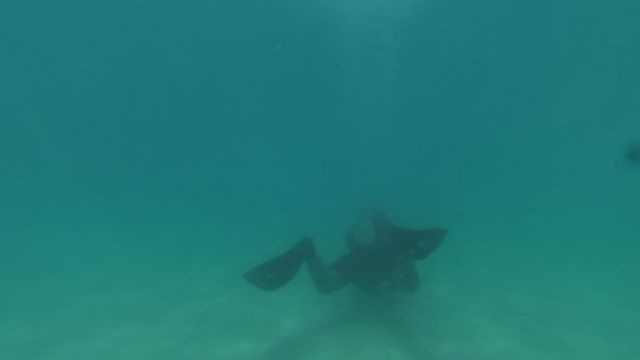Diver: (239, 209, 461, 306)
